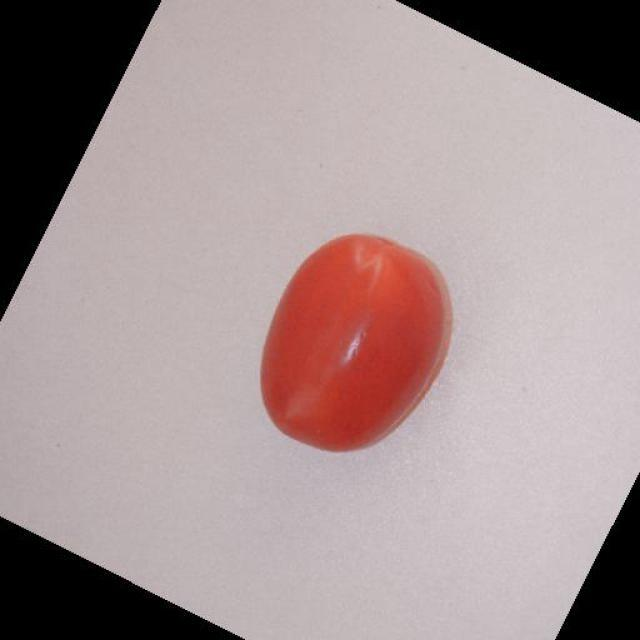tomato: (260, 235, 456, 456)
